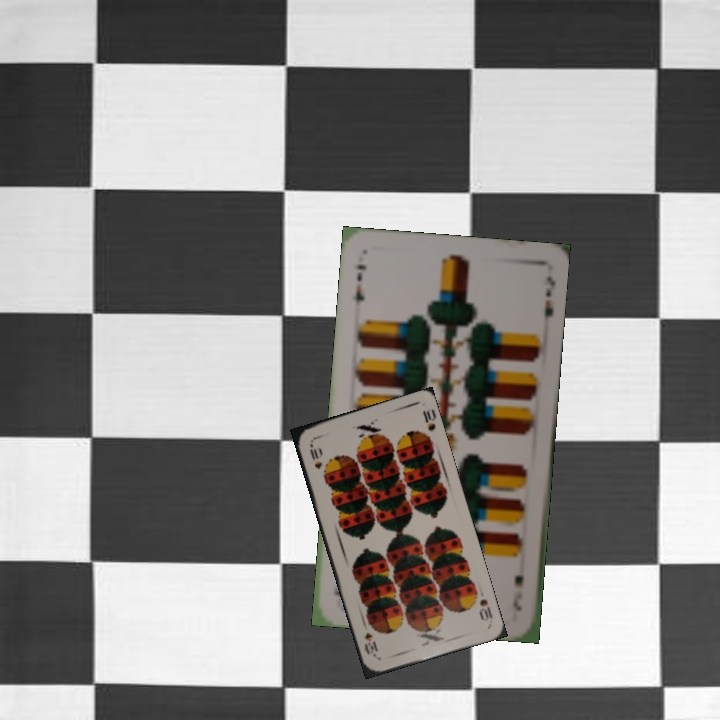E7: (351, 260, 369, 305), (509, 570, 527, 614)
S10: (306, 439, 325, 472), (475, 595, 495, 624)
